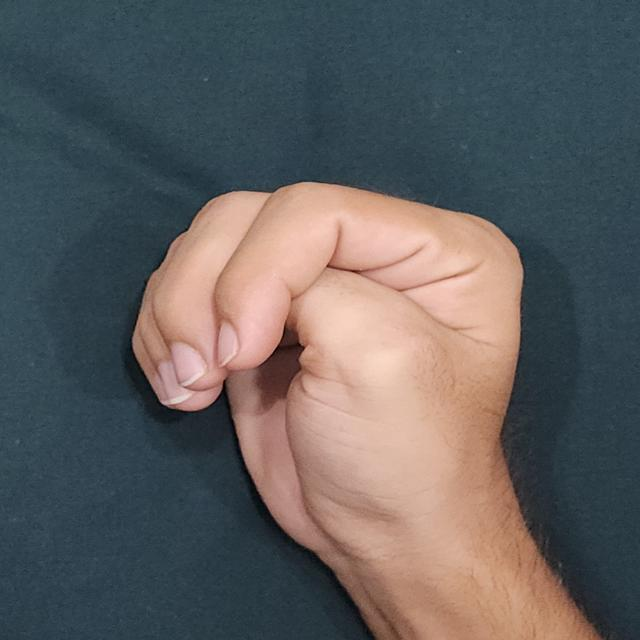د: (77, 112, 600, 583)
